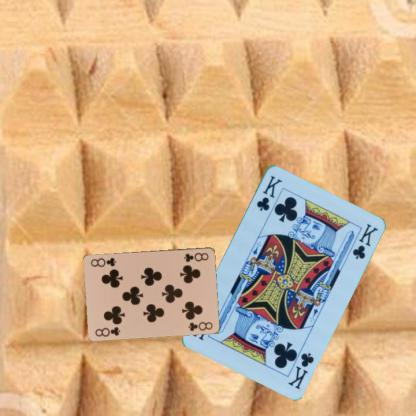8c: (93, 324, 121, 338), (181, 250, 210, 263)
Kc: (286, 350, 316, 390), (254, 172, 283, 212)
